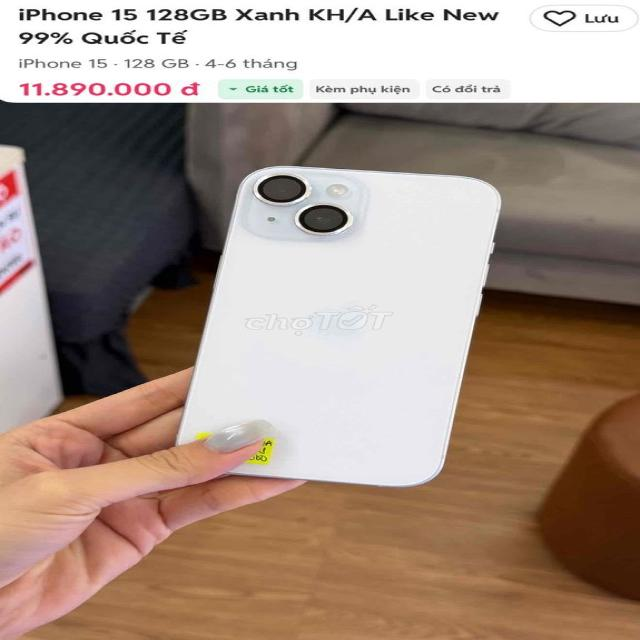gen_15: (185, 159, 504, 509)
